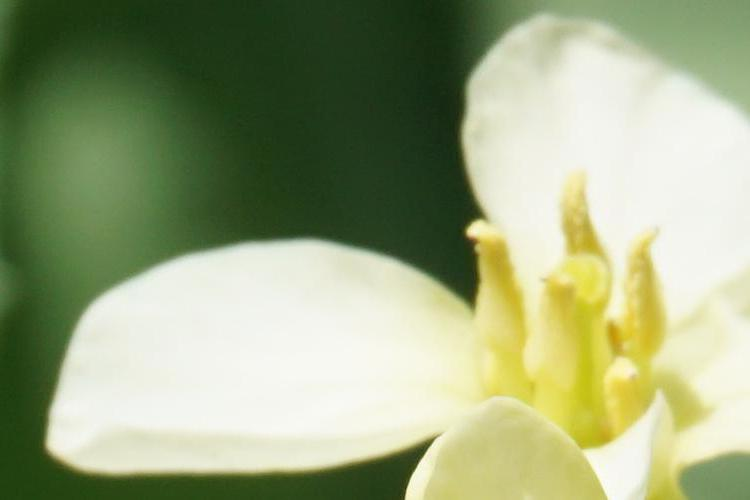white: (40, 24, 742, 483)
